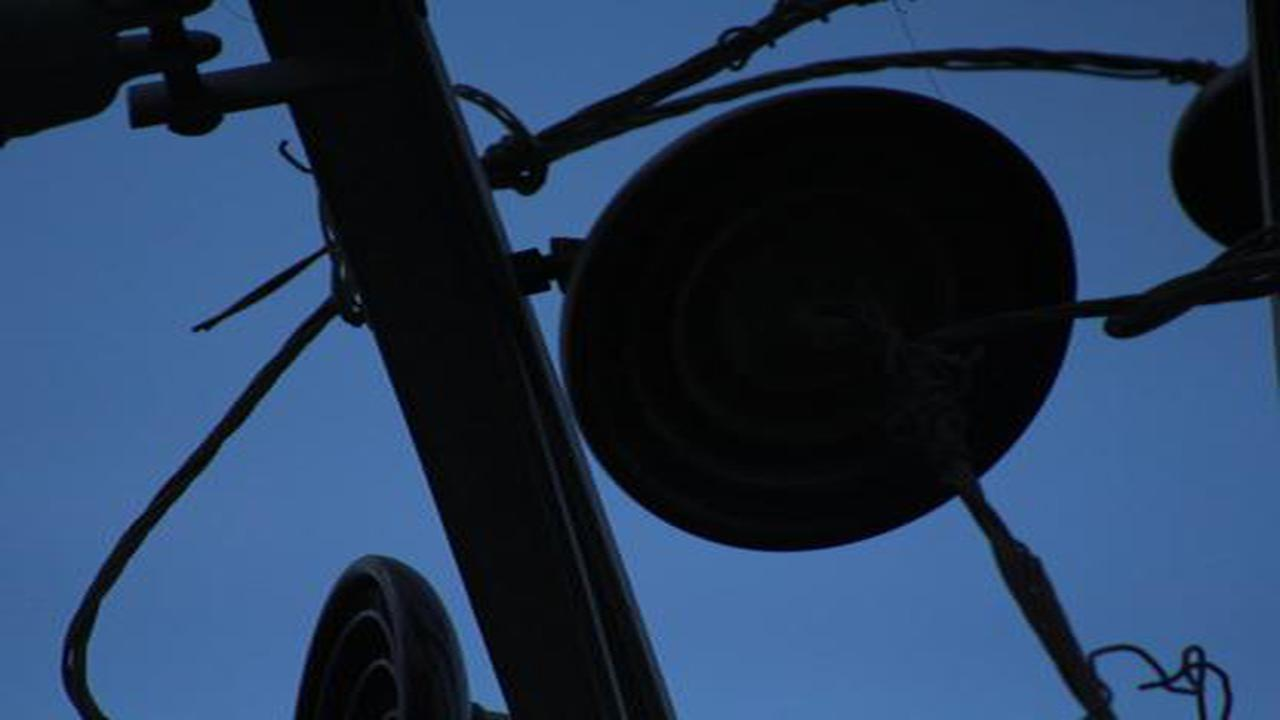insulator_disc: (552, 80, 1102, 567)
